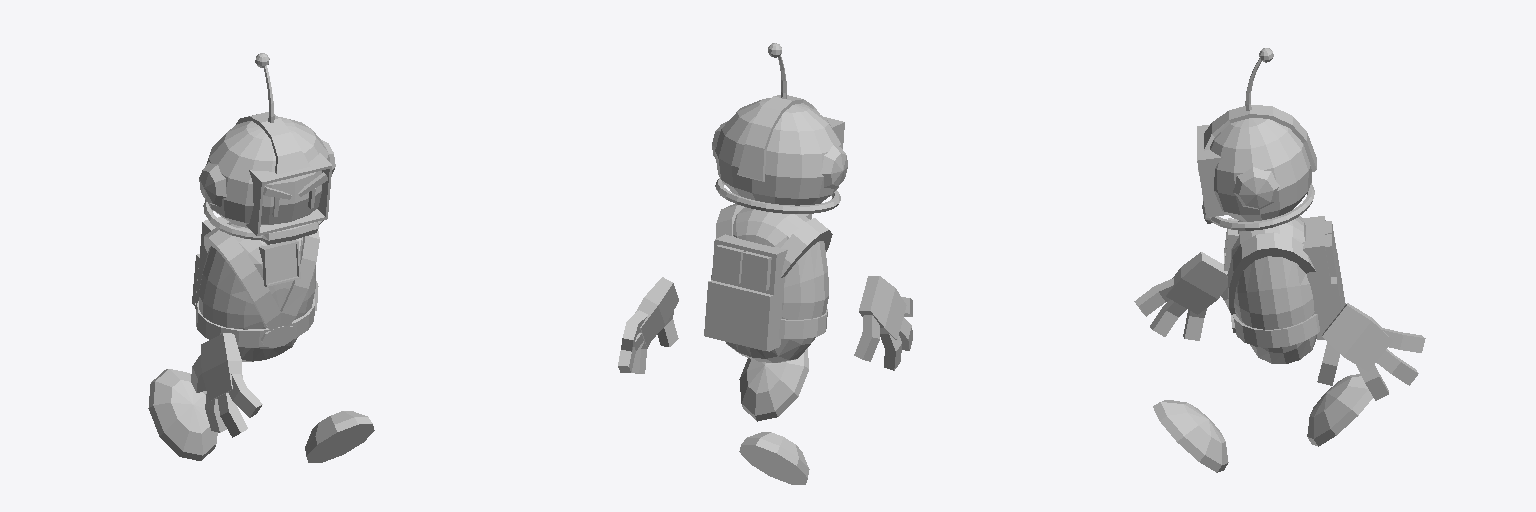
File: bomberman_000008.obj
3 renders of one model, left to right at view 1: azimuth 30°, elevation 25°; view 2: azimuth 150°, elevation 25°; view 3: azimuth 270°, elevation 25°, orthographic.
Parts seen in each view (by area): view 1: BM_BODY.002_Mesh.009, BM_Head.002_Mesh.005, BM_Head.001_Mesh.004, BM_BODY.001_Mesh.008, R_Hand_Mesh.003, R_Foot_Mesh.001, L_Foot_Mesh; view 2: BM_BODY.002_Mesh.009, BM_Head.002_Mesh.005, BM_BODY.001_Mesh.008, BM_Head.001_Mesh.004, R_Hand_Mesh.003, L_Hand_Mesh.002, L_Foot_Mesh, R_Foot_Mesh.001; view 3: BM_BODY.002_Mesh.009, BM_Head.002_Mesh.005, BM_BODY.001_Mesh.008, BM_Head.001_Mesh.004, L_Hand_Mesh.002, R_Hand_Mesh.003, L_Foot_Mesh, R_Foot_Mesh.001.
Boxes of the visible parts, <box> form: BM_BODY.002_Mesh.009: <box>192,217,319,347</box>; BM_Head.002_Mesh.005: <box>206,117,329,244</box>; BM_Head.001_Mesh.004: <box>199,112,335,240</box>; BM_BODY.001_Mesh.008: <box>199,222,315,361</box>; R_Hand_Mesh.003: <box>191,333,262,437</box>; R_Foot_Mesh.001: <box>148,369,217,460</box>; L_Foot_Mesh: <box>305,411,374,462</box>; BM_BODY.002_Mesh.009: <box>704,204,832,351</box>; BM_Head.002_Mesh.005: <box>715,98,841,205</box>; BM_BODY.001_Mesh.008: <box>711,207,828,362</box>; BM_Head.001_Mesh.004: <box>712,95,847,213</box>; R_Hand_Mesh.003: <box>854,276,912,370</box>; L_Hand_Mesh.002: <box>618,277,678,373</box>; L_Foot_Mesh: <box>739,348,808,421</box>; R_Foot_Mesh.001: <box>739,432,809,484</box>; BM_BODY.002_Mesh.009: <box>1224,209,1345,347</box>; BM_Head.002_Mesh.005: <box>1202,118,1311,223</box>; BM_BODY.001_Mesh.008: <box>1231,217,1316,363</box>; BM_Head.001_Mesh.004: <box>1197,105,1316,230</box>; L_Hand_Mesh.002: <box>1317,303,1425,400</box>; R_Hand_Mesh.003: <box>1134,252,1229,340</box>; L_Foot_Mesh: <box>1153,400,1228,472</box>; R_Foot_Mesh.001: <box>1307,374,1372,446</box>.
Size of the model in its own units: 3.61 by 8 by 5.09.